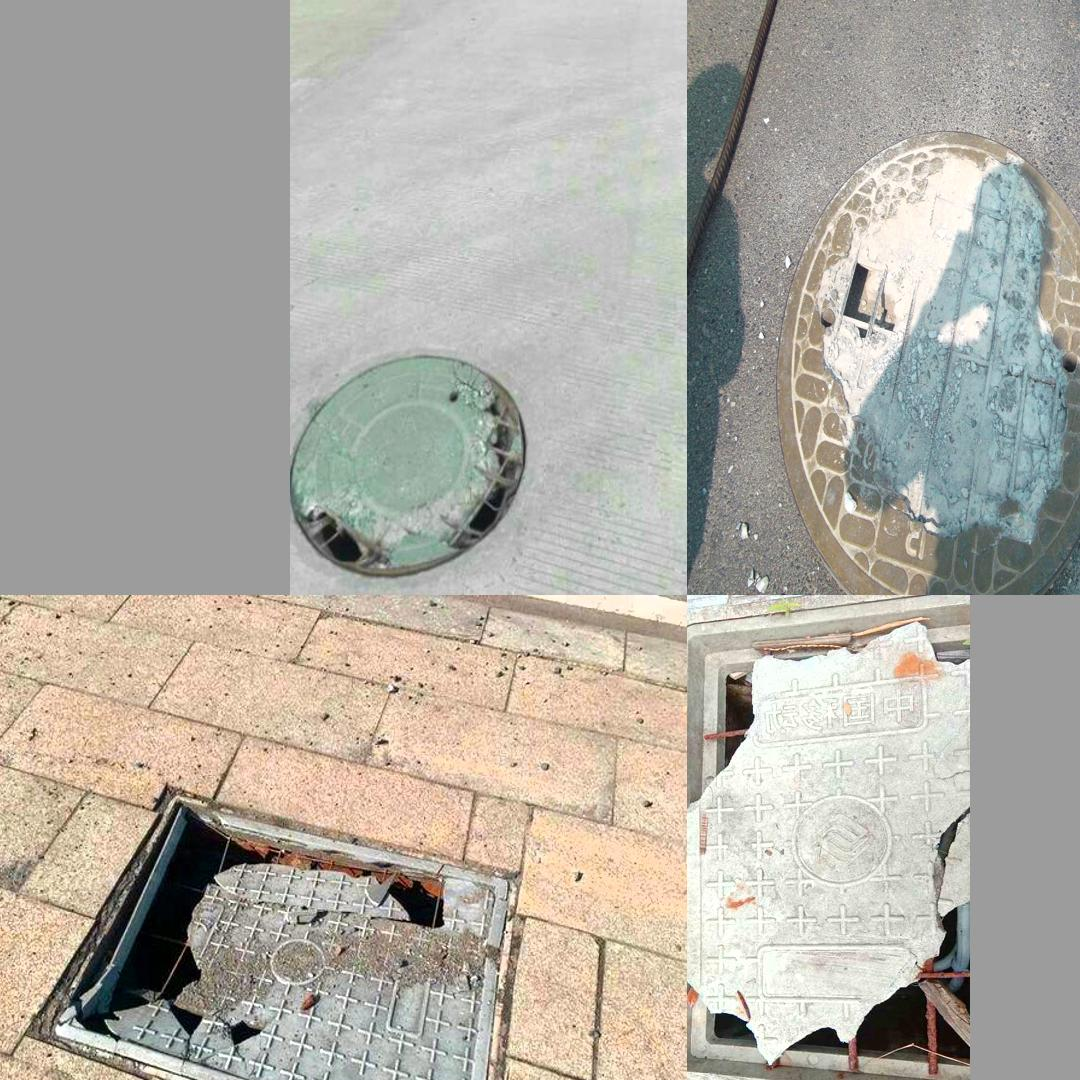broke: (24, 774, 510, 1080), (774, 126, 1080, 595), (687, 604, 968, 1080), (292, 356, 527, 578)
